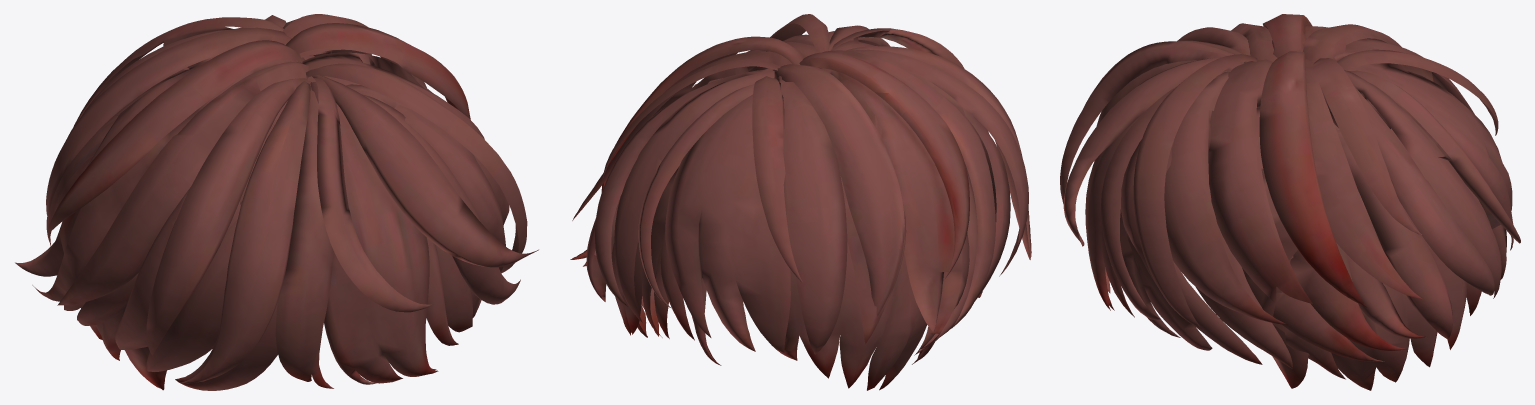
File: hair_m3_bangs.glb
3 renders of one model, left to right at view 1: azimuth 30°, elevation 25°; view 2: azimuth 150°, elevation 25°; view 3: azimuth 270°, elevation 25°, orthographic. The views are drawn at different scales.
Visible parts, largest first — view 1: Hair_M3_bangs; view 2: Hair_M3_bangs; view 3: Hair_M3_bangs.
Boxes of the visible parts, x1,y1,x2,y2 form: Hair_M3_bangs: [15, 14, 538, 390]; Hair_M3_bangs: [570, 14, 1031, 390]; Hair_M3_bangs: [1060, 14, 1520, 390].
Bounding box in the file's own units: 0.46 × 0.3478 × 0.4917.
1 material, 1 textured.
